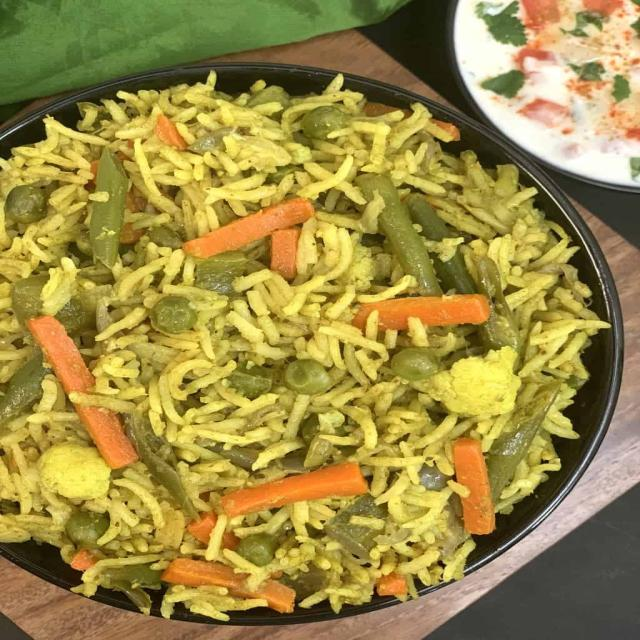veg palav: (0, 56, 621, 640)
